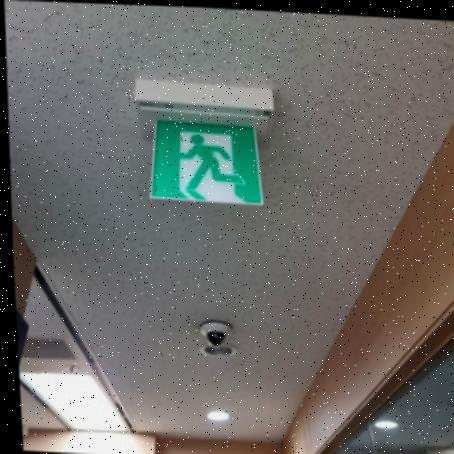emergency_exit: (134, 78, 275, 208), (149, 116, 264, 207)
